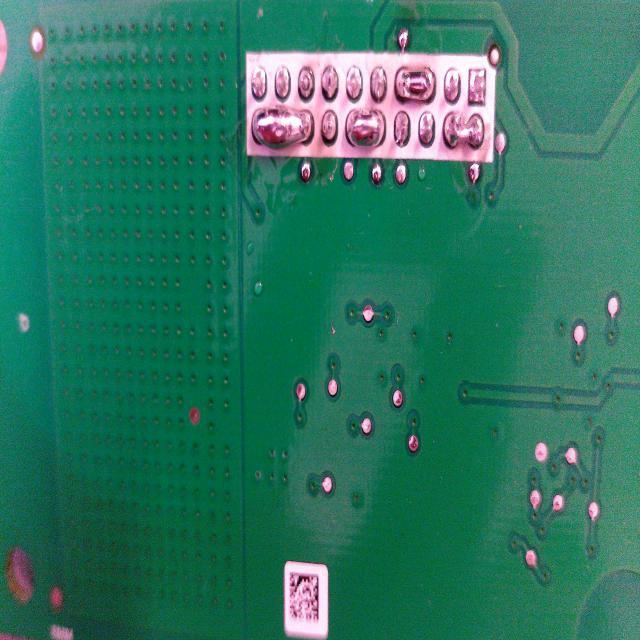Soldering shorted: (250, 104, 316, 150), (392, 61, 440, 108), (442, 110, 484, 156), (344, 106, 386, 150)
